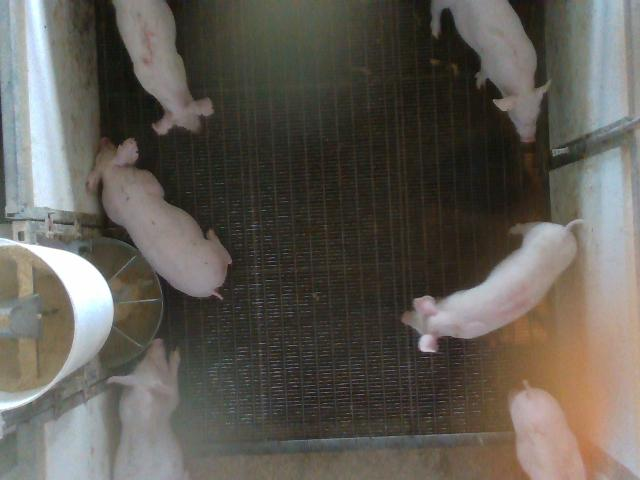pig-4: (401, 220, 582, 352)
pig-5: (114, 0, 212, 135)
